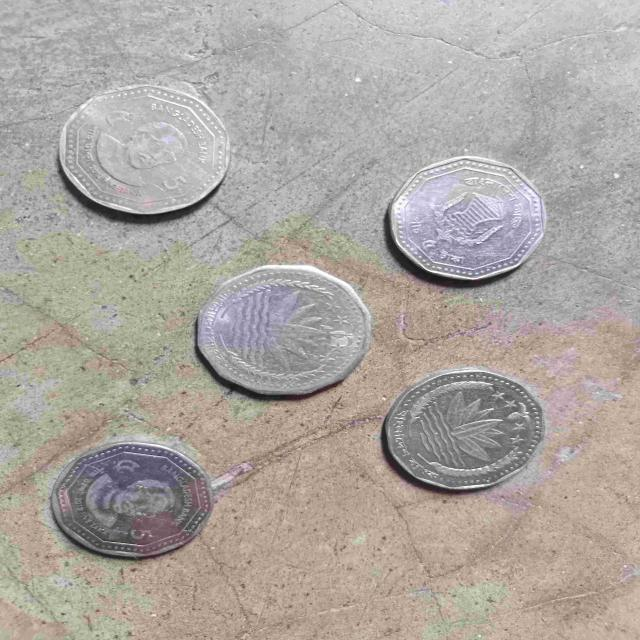5_taka: (52, 71, 251, 240), (176, 255, 387, 409), (372, 132, 558, 292), (374, 366, 560, 506), (47, 431, 223, 571)
